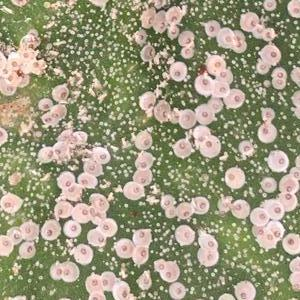Femea: (241, 12, 258, 29), (202, 139, 218, 157), (173, 141, 190, 157), (169, 63, 185, 79), (227, 89, 242, 106), (208, 58, 222, 76), (213, 81, 229, 96), (164, 7, 179, 22), (273, 68, 283, 90), (232, 32, 244, 50), (197, 75, 210, 91), (198, 107, 211, 123), (137, 133, 150, 149), (219, 29, 231, 46), (265, 46, 278, 61), (193, 129, 208, 142), (216, 69, 232, 81), (178, 32, 194, 44), (155, 13, 165, 31), (142, 12, 153, 26), (204, 21, 216, 33), (256, 60, 268, 72), (254, 24, 265, 36), (263, 30, 276, 40), (167, 26, 177, 38)
Linfa: (62, 40, 76, 53), (186, 90, 198, 103), (126, 92, 136, 107), (96, 44, 108, 56), (236, 55, 248, 66), (92, 31, 104, 41), (122, 74, 134, 84), (238, 73, 248, 85), (81, 36, 90, 49), (80, 23, 93, 32), (112, 40, 123, 50), (108, 52, 118, 62), (58, 24, 67, 34), (113, 97, 123, 106), (112, 57, 122, 66), (115, 111, 124, 121), (287, 49, 296, 58), (288, 35, 297, 44), (95, 13, 103, 23), (259, 87, 267, 97), (254, 84, 262, 94), (94, 23, 104, 30), (262, 78, 269, 88), (287, 43, 297, 50), (97, 120, 108, 126), (67, 26, 75, 34), (108, 70, 116, 78), (86, 16, 93, 23), (285, 59, 293, 65)
Macho: (0, 5, 16, 14)
